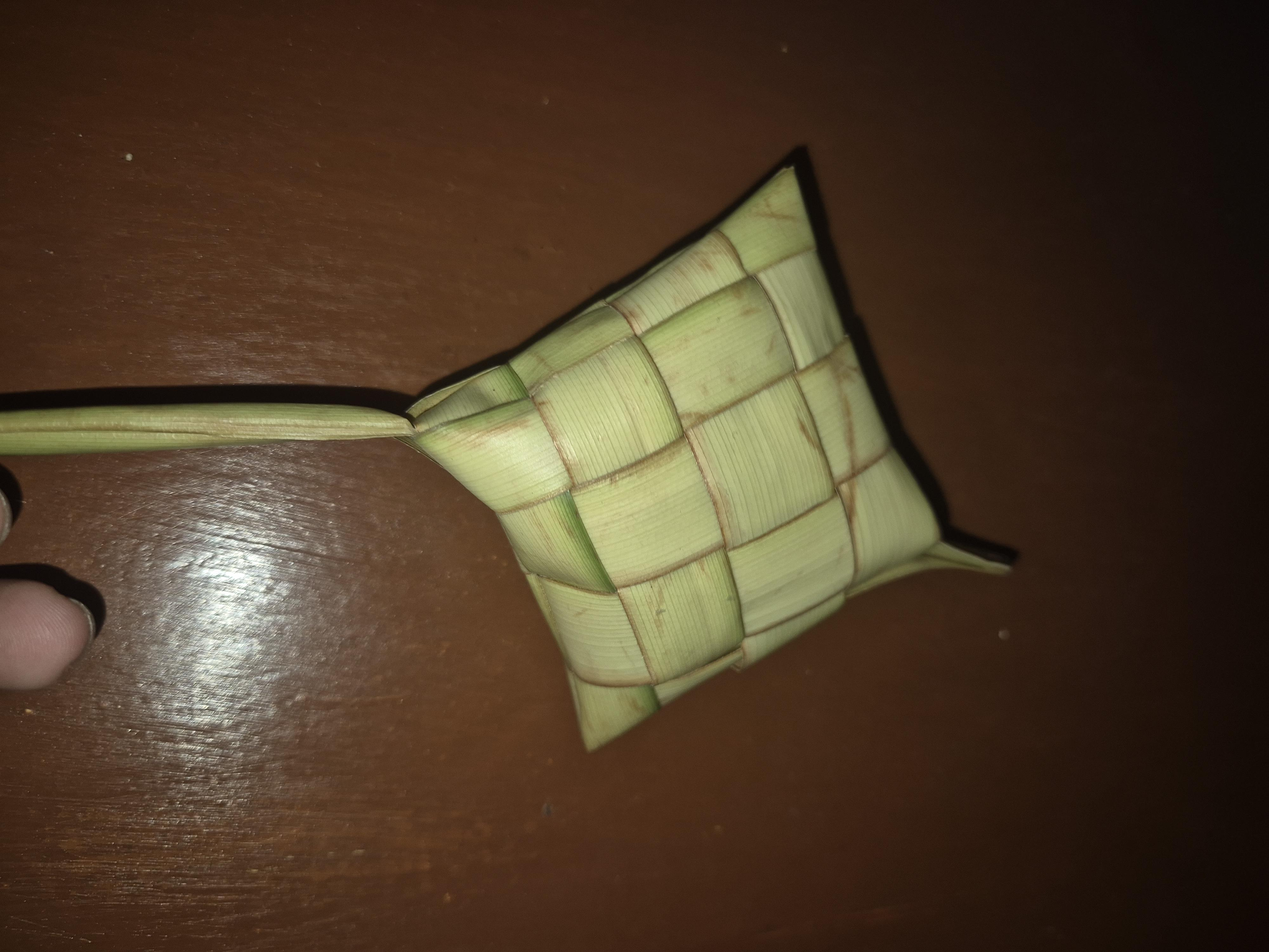Tipat Nasi: (271, 308, 1044, 711)
